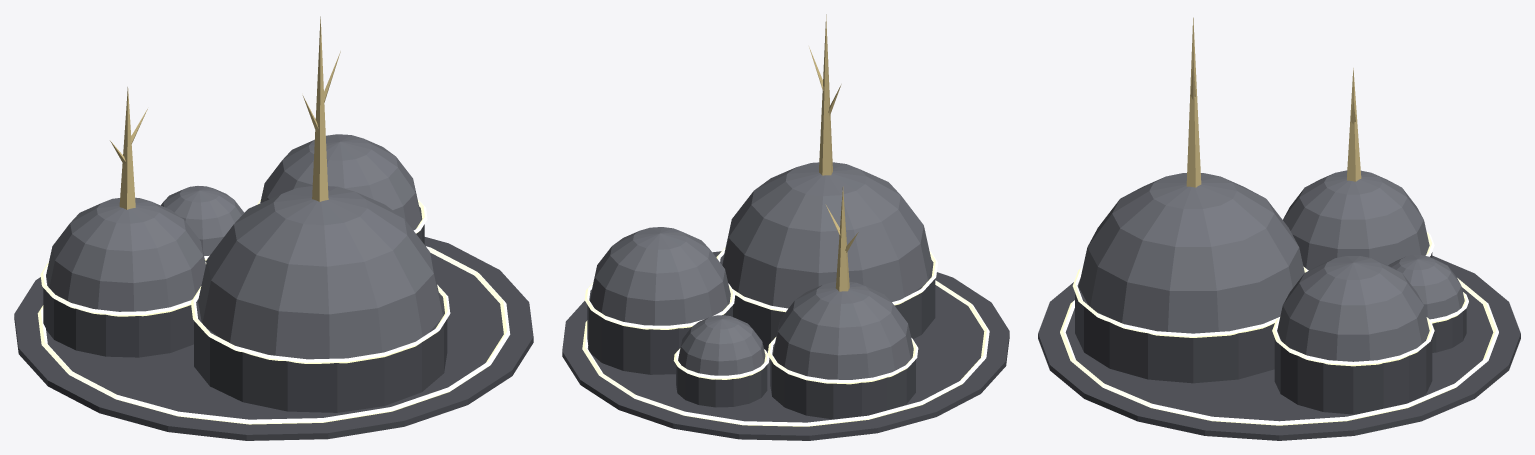
Rendered from zone_low_6.glb.
3 renders of one model, left to right at view 1: azimuth 30°, elevation 25°; view 2: azimuth 150°, elevation 25°; view 3: azimuth 270°, elevation 25°, orthographic. The views are drawn at different scales.
Visible parts, largest first — view 1: zone_low_6, detail; view 2: zone_low_6, detail; view 3: zone_low_6, detail.
Part boxes in pixels (<box>): zone_low_6: <box>14,16,533,440</box>; detail: <box>37,51,510,424</box>; zone_low_6: <box>562,14,1009,440</box>; detail: <box>582,47,989,426</box>; zone_low_6: <box>1038,17,1520,440</box>; detail: <box>1060,63,1498,425</box>.
Bounding box in the file's own units: 19.6 × 14.56 × 19.6.
